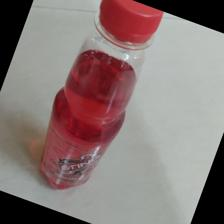Sting: (39, 1, 166, 189)
